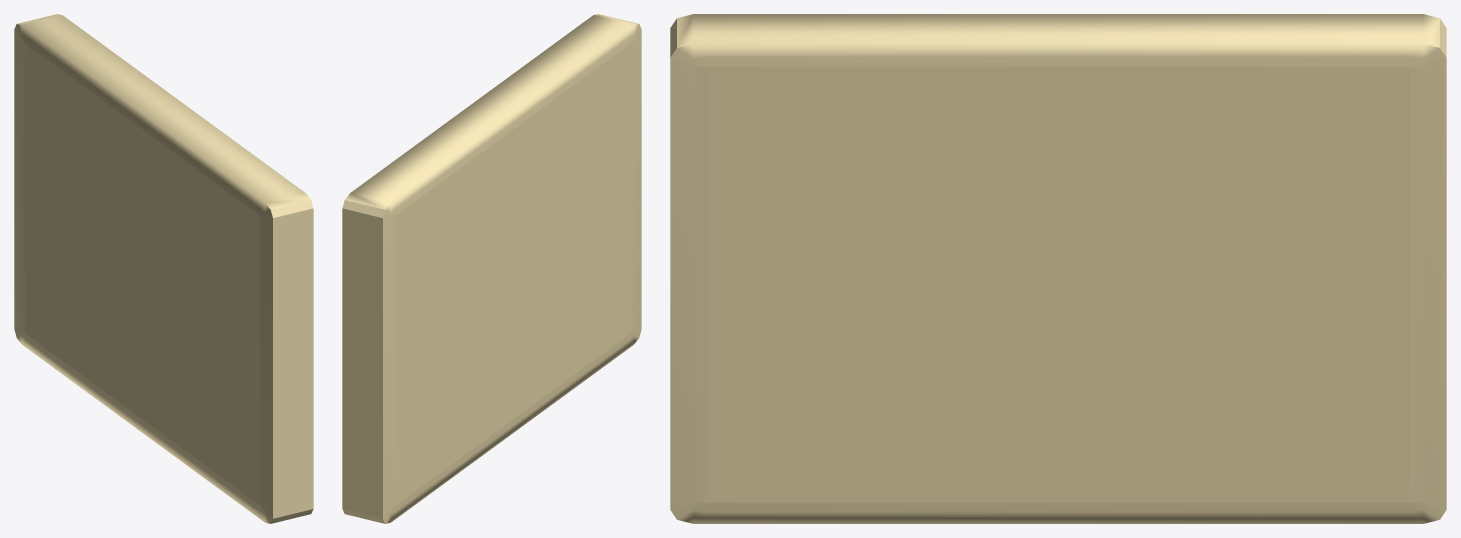
Rendered from butter_pat.fbx.
3 views of the same model, side by side, from view 1: azimuth 30°, elevation 25°; view 2: azimuth 150°, elevation 25°; view 3: azimuth 270°, elevation 25° (orthographic). The views are drawn at different scales.
Visible parts, largest first — view 1: butter_pat; view 2: butter_pat; view 3: butter_pat.
Part boxes in pixels (<box>): butter_pat: <box>14,14,313,523</box>; butter_pat: <box>342,14,641,523</box>; butter_pat: <box>670,14,1446,523</box>.
Size of the model in its own units: 8.18 by 58 by 85.
